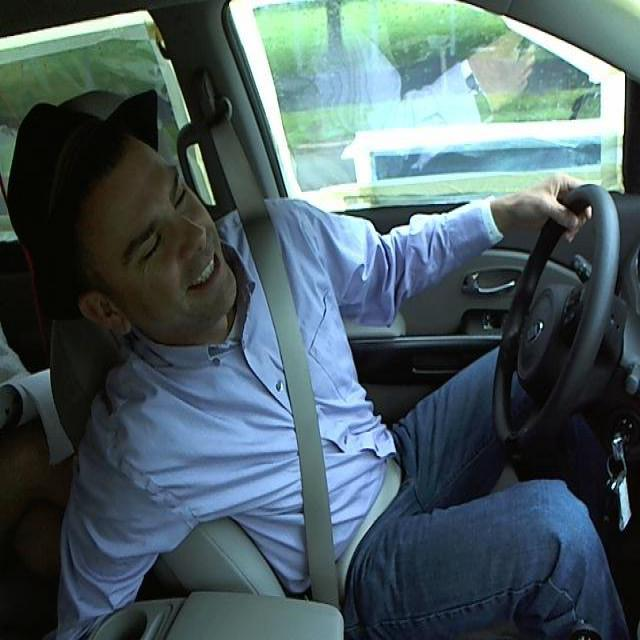seatbelt: (239, 220, 350, 589)
